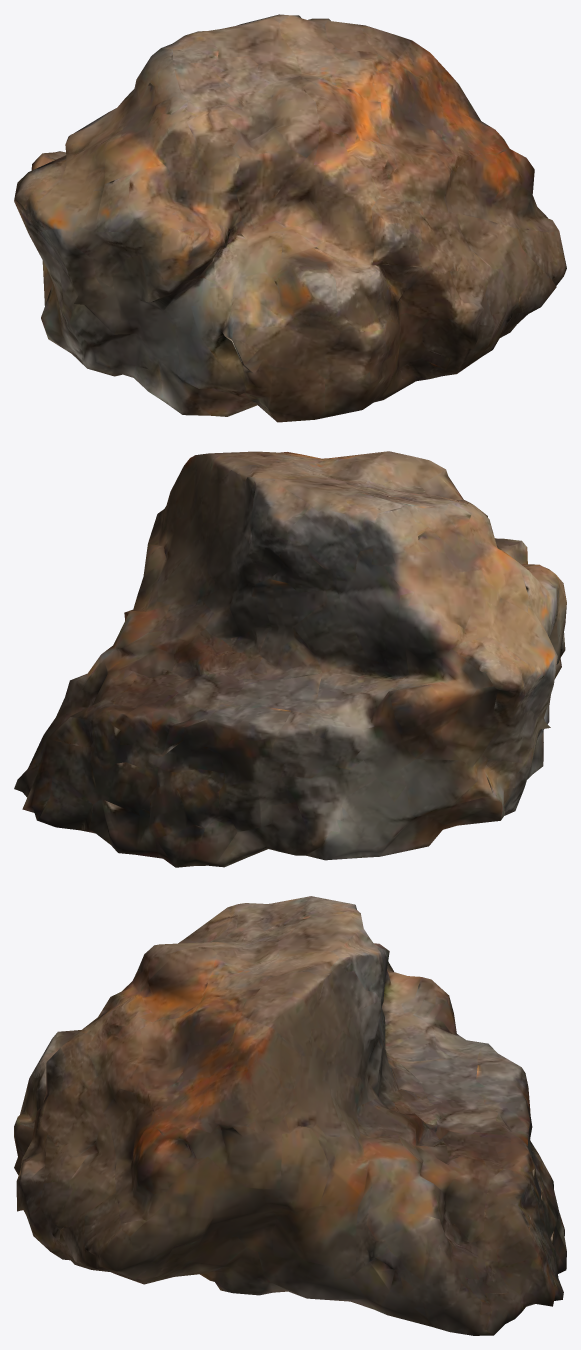
File: boulder.glb
3 views of the same model, one above another, from view 1: azimuth 30°, elevation 25°; view 2: azimuth 150°, elevation 25°; view 3: azimuth 270°, elevation 25° (orthographic). The views are drawn at different scales.
Size of the model in its own units: 1.89 by 1.25 by 1.99.
1 material, 1 textured.
